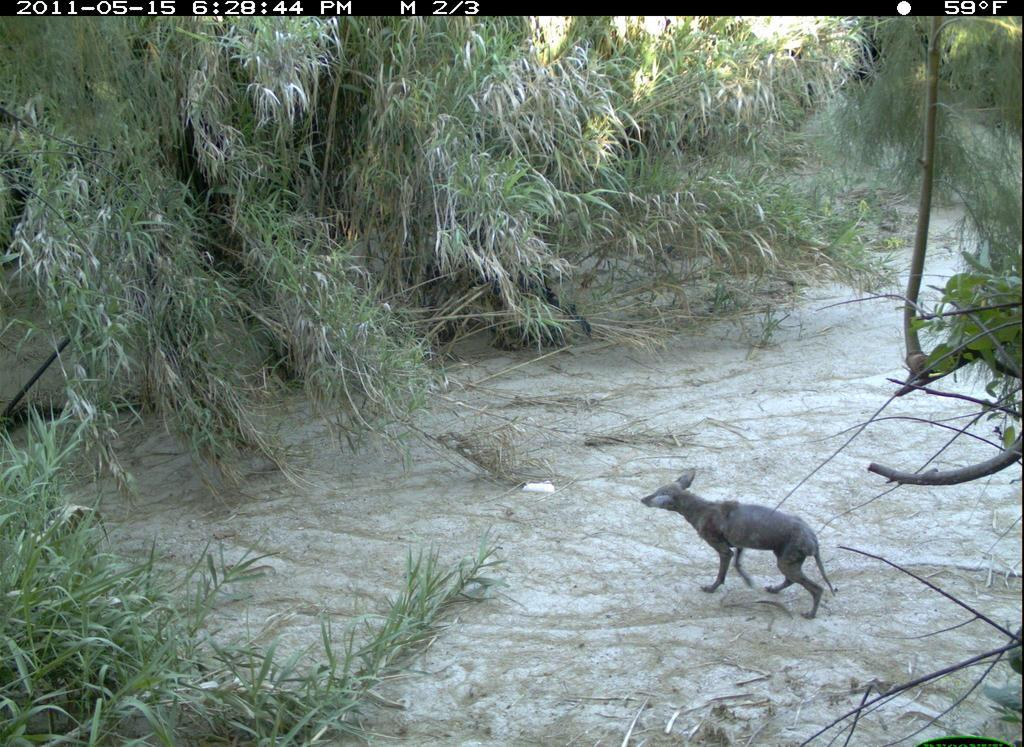coyote: (641, 465, 840, 626)
